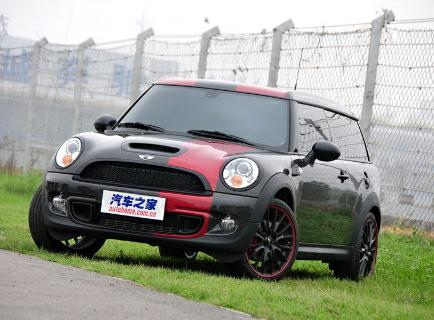MINI CLUBMAN: (16, 63, 380, 275), (49, 93, 372, 275)
